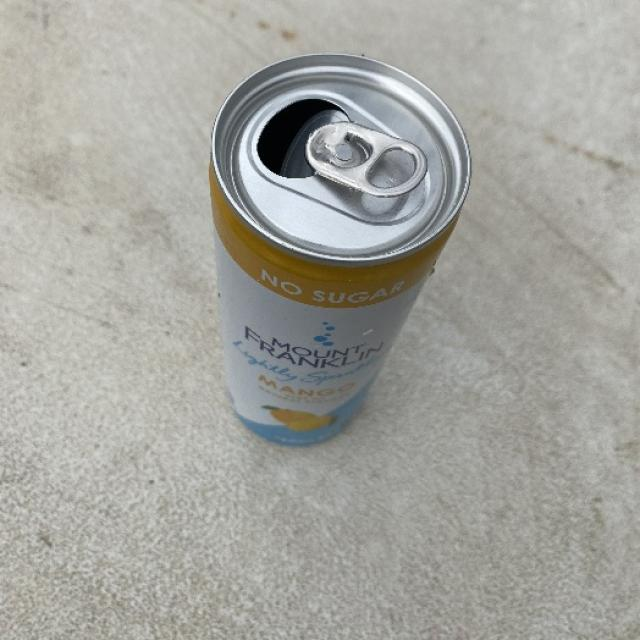metal: (206, 51, 472, 446)
